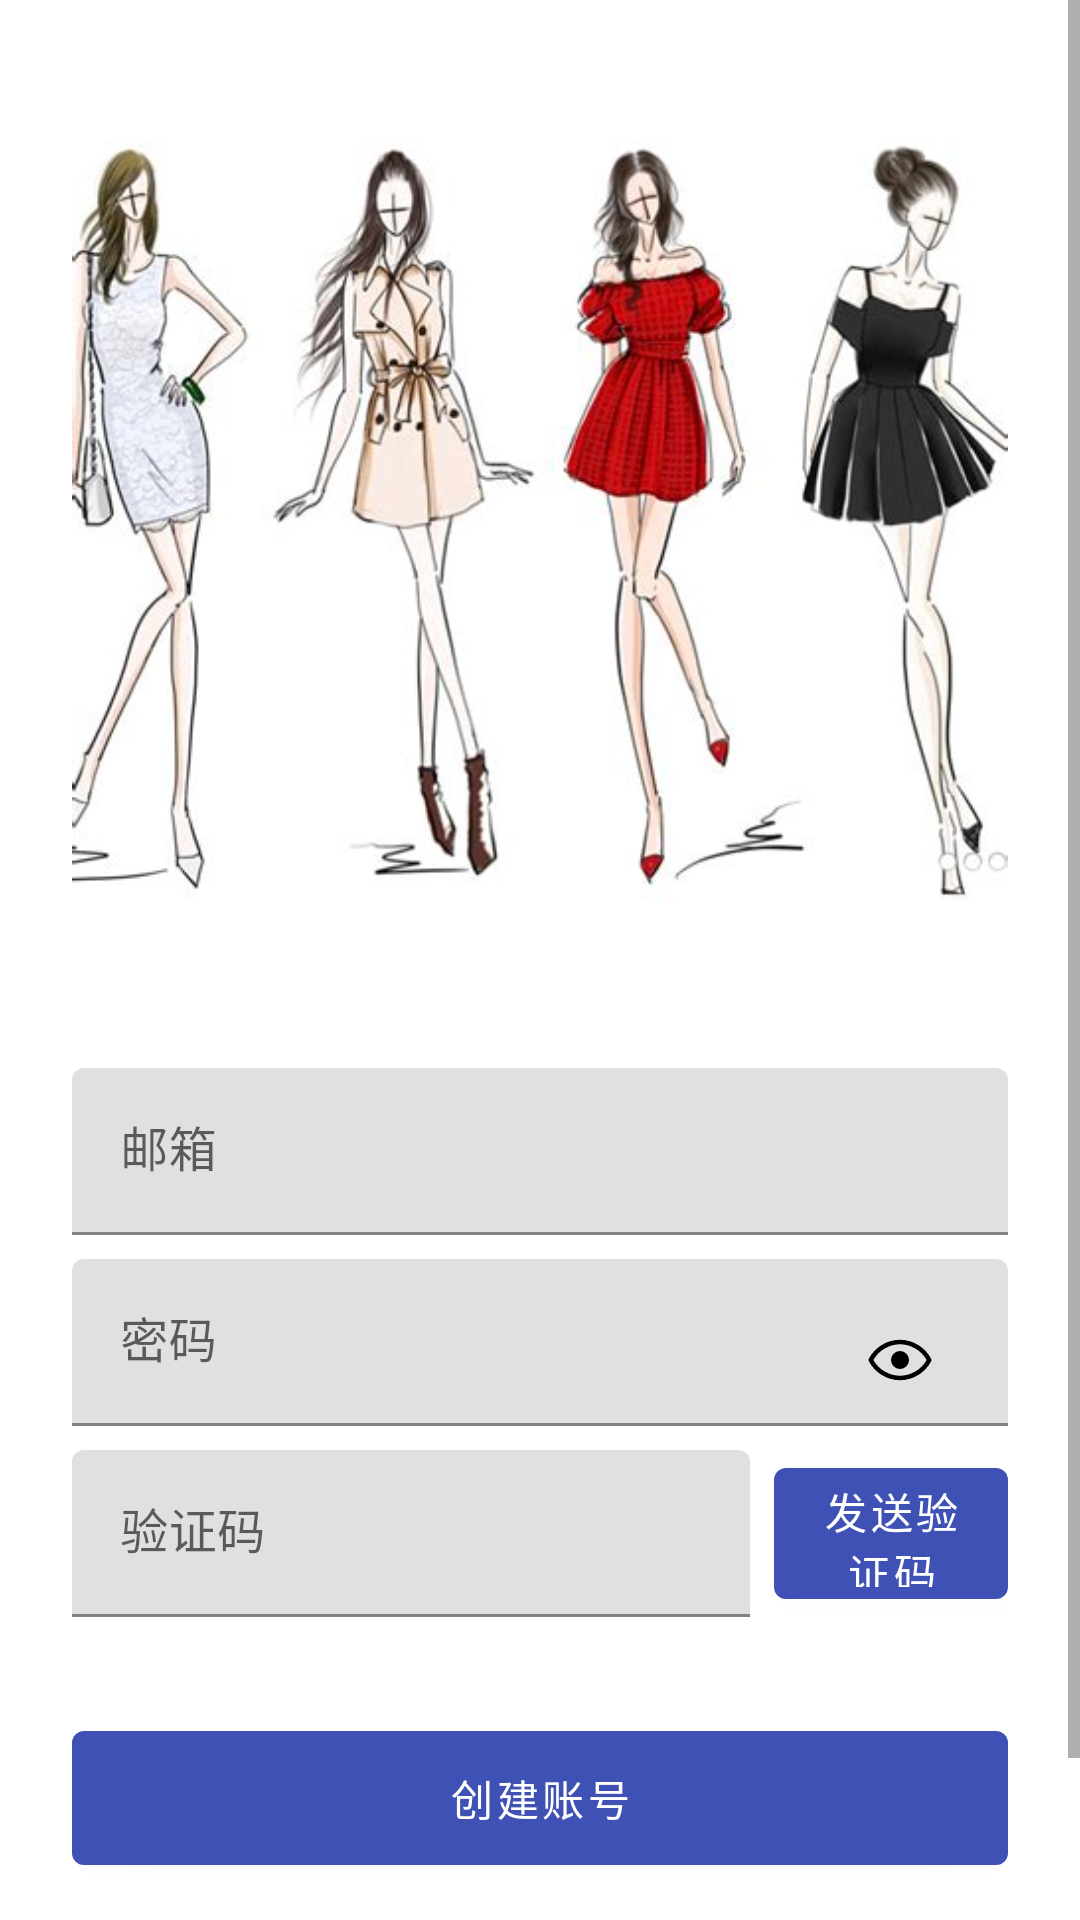

Screen size 1080 × 1920. Icon name, then its center in pixels as point (x, y):
eye open: point (900, 1360)
